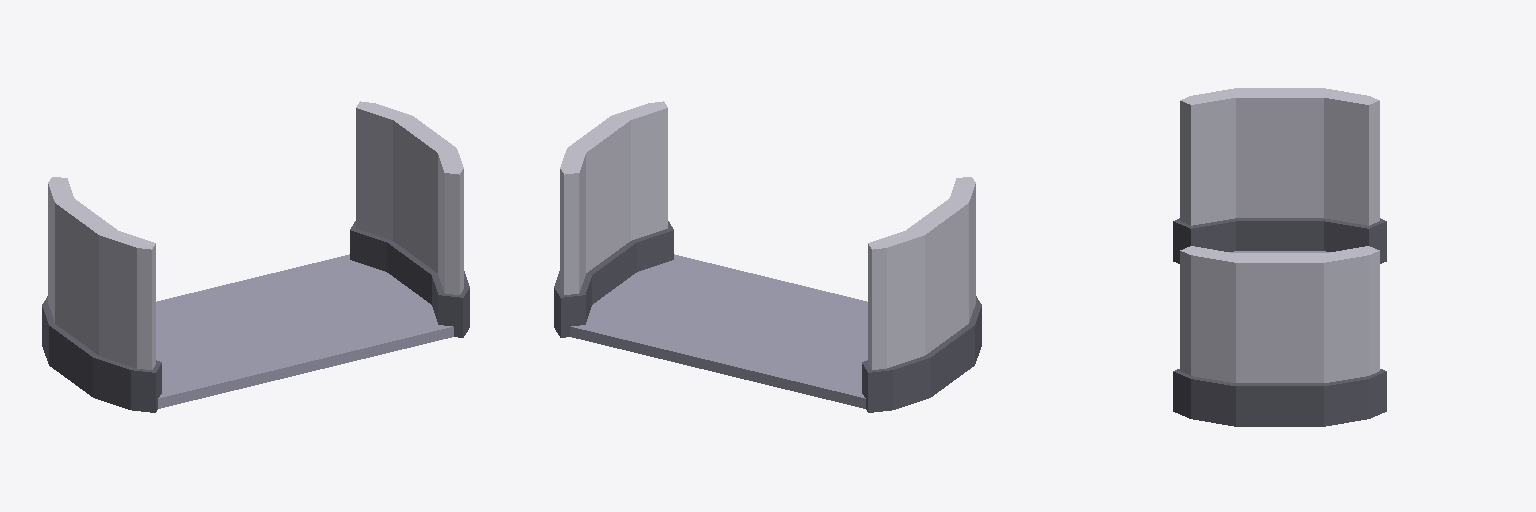
The model's file is hallway_short_05.obj.
The picture shows the model from 3 angles: view 1: azimuth 30°, elevation 25°; view 2: azimuth 150°, elevation 25°; view 3: azimuth 270°, elevation 25°; orthographic projection.
Parts seen in each view (by area): view 1: floor_06_103, wall_03_101, wall_03_104; view 2: floor_06_103, wall_03_101, wall_03_104; view 3: wall_03_104, wall_03_101.
Boxes of the visible parts, x1,y1,x2,y2 form: floor_06_103: [156, 254, 453, 408]; wall_03_101: [42, 177, 161, 412]; wall_03_104: [350, 101, 469, 337]; floor_06_103: [570, 254, 867, 408]; wall_03_101: [862, 177, 981, 412]; wall_03_104: [554, 101, 673, 337]; wall_03_104: [1173, 246, 1386, 426]; wall_03_101: [1173, 88, 1386, 263].
Bounding box in the file's own units: 2.4 × 1 × 1.21.